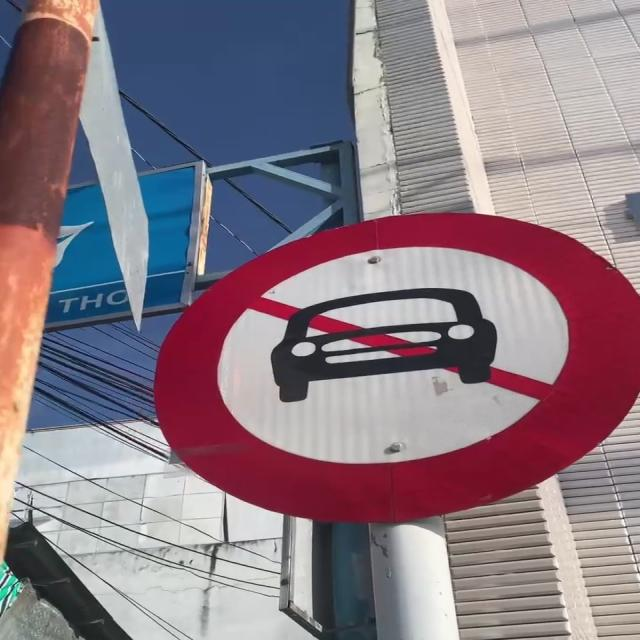Cam_O_To: (148, 207, 640, 529)
